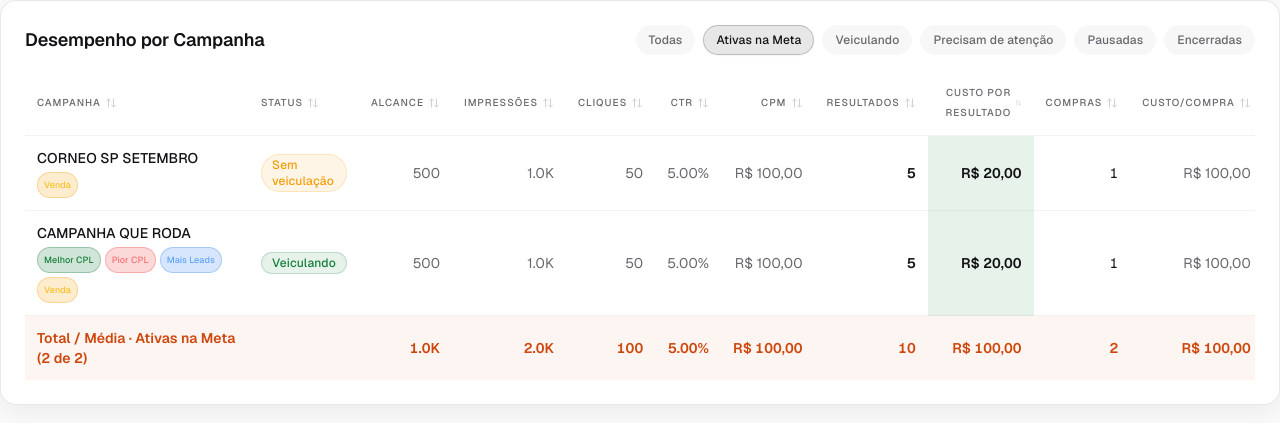
it: CampaignsTable — o filtro que mentia › "Veiculando" não devolve campanha cujos conjuntos estão pausados
Click the button "Veiculando" at (867, 40), box [822,25,912,55]
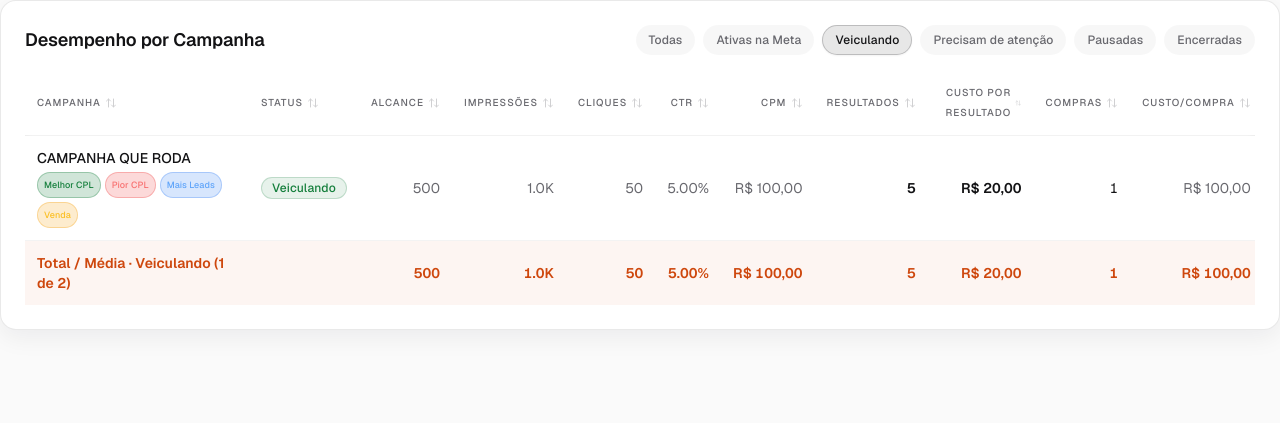
Now the text "CORNEO SP SETEMBRO" is not shown
